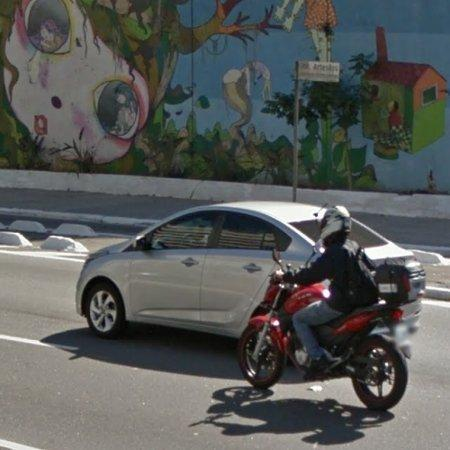motorcycles: (317, 263, 426, 410), (239, 251, 330, 390)
